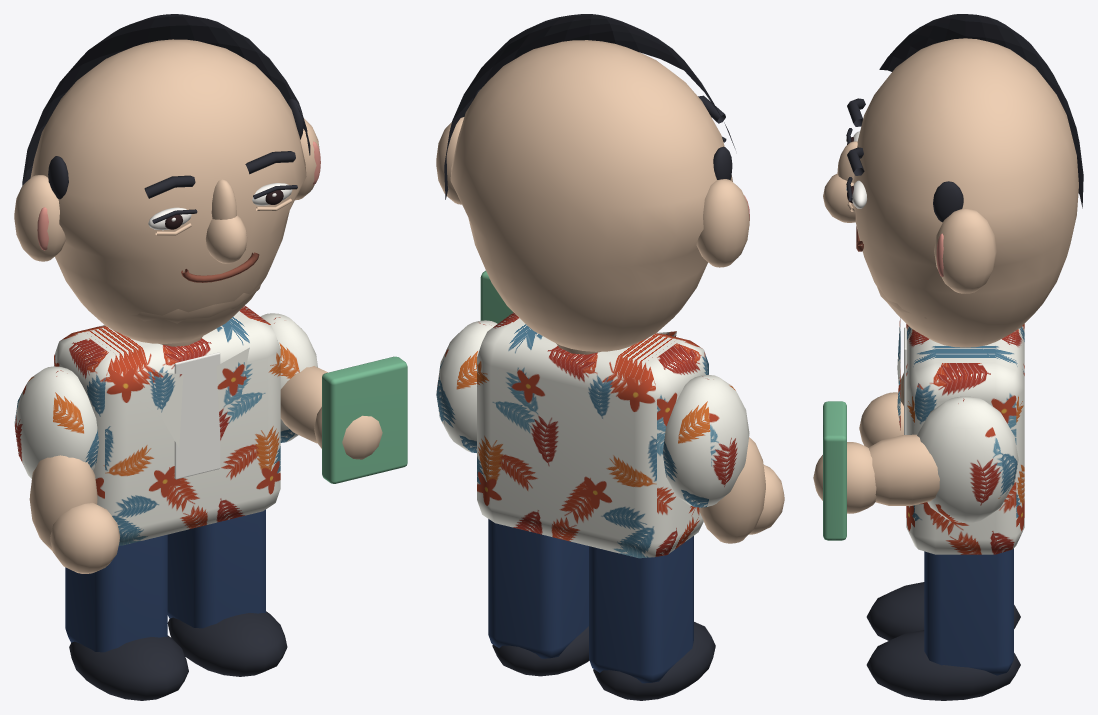
File: longlong-08.glb
The picture shows the model from 3 angles, left to right: view 1: azimuth 30°, elevation 25°; view 2: azimuth 150°, elevation 25°; view 3: azimuth 270°, elevation 25°; orthographic projection. The views are drawn at different scales.
Parts seen in each view (by area): view 1: Trousers, Trousers.004, White undershirt inset; view 2: Trousers, Trousers.004; view 3: Trousers, Trousers.004.
Boxes of the visible parts, x1=… form: Trousers: x1=14, y1=14, x2=407, y2=700; Trousers.004: x1=14, y1=305, x2=317, y2=545; White undershirt inset: x1=174, y1=352, x2=220, y2=479; Trousers: x1=436, y1=14, x2=784, y2=700; Trousers.004: x1=436, y1=312, x2=749, y2=558; Trousers: x1=813, y1=14, x2=1083, y2=700; Trousers.004: x1=897, y1=317, x2=1024, y2=554.
Size of the model in its own units: 1.55 by 3 by 1.14.
Materials: 3 (2 with a texture image).
